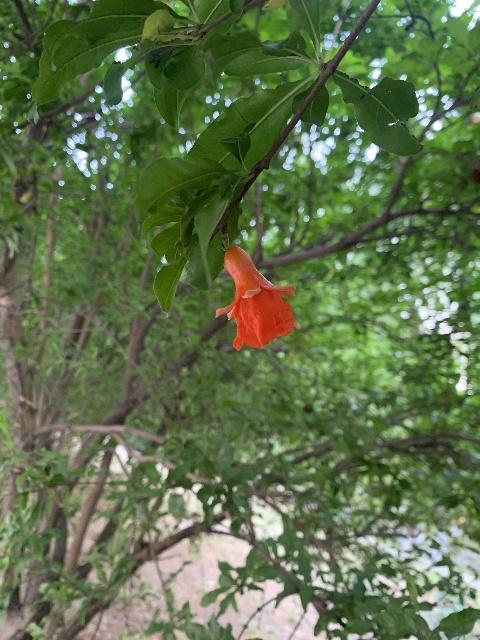flower: (216, 244, 295, 350)
